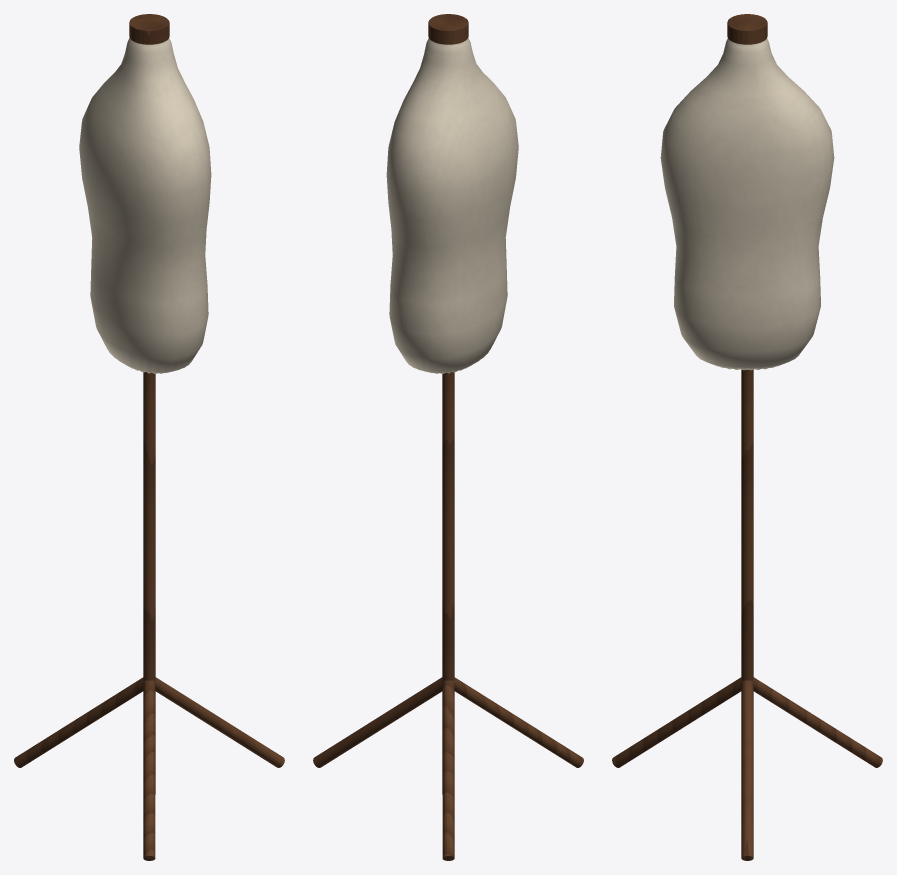
Rendered from linen.glb.
The picture shows the model from 3 angles, left to right: view 1: azimuth 30°, elevation 25°; view 2: azimuth 150°, elevation 25°; view 3: azimuth 270°, elevation 25°; orthographic projection.
Parts seen in each view (by area): view 1: fabric_primary_form, wood_z; view 2: fabric_primary_form, wood_z; view 3: fabric_primary_form, wood_z.
Part boxes in pixels (x1,y1,x2,y2): fabric_primary_form: [79, 38, 211, 373]; wood_z: [14, 14, 284, 860]; fabric_primary_form: [386, 38, 518, 373]; wood_z: [313, 14, 583, 860]; fabric_primary_form: [660, 38, 834, 370]; wood_z: [612, 14, 882, 860].
Size of the model in its own units: 0.4687 by 1.7 by 0.5375.
Materials: 2 (2 with a texture image).
